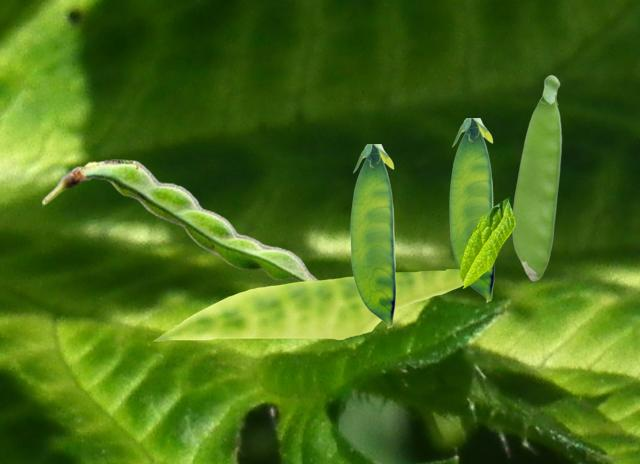pea: (42, 159, 334, 284), (511, 74, 561, 280), (449, 118, 493, 301), (350, 144, 394, 327)
